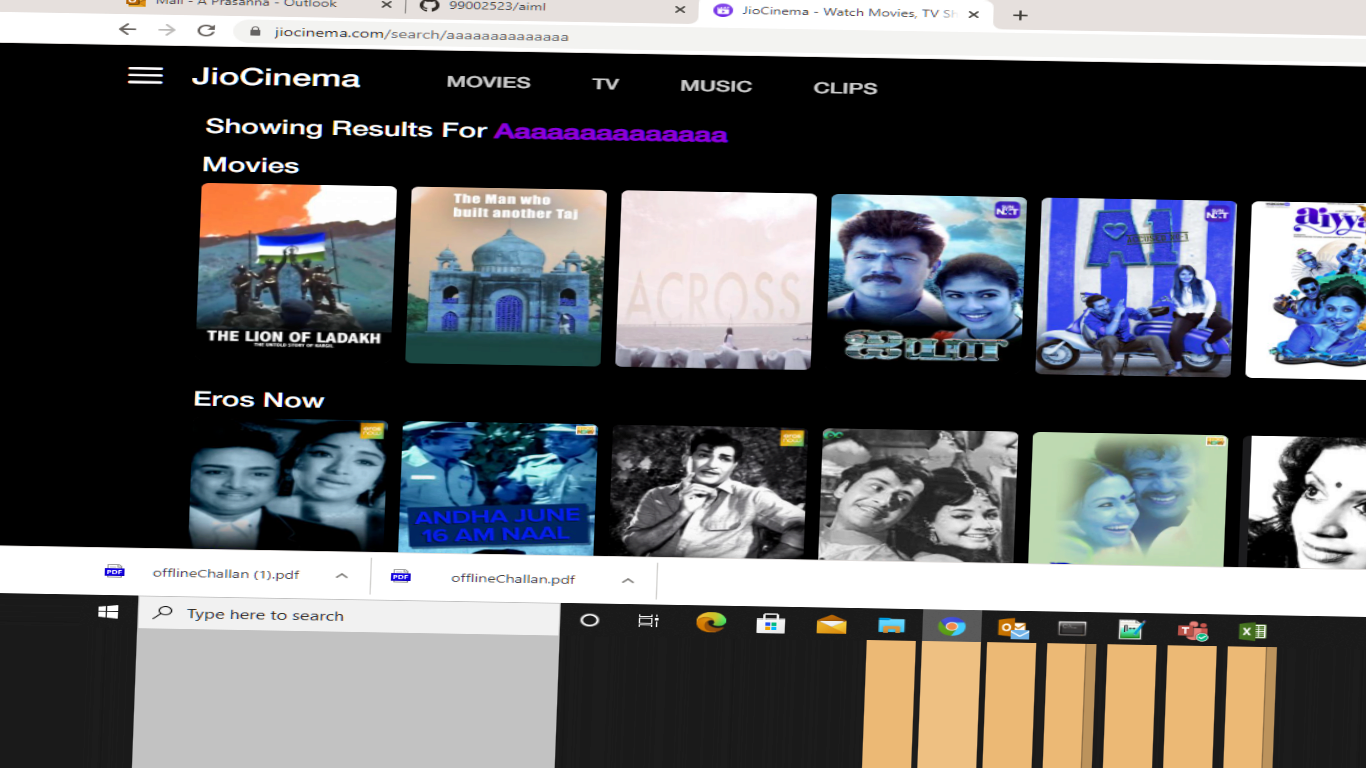noresultsfound: (204, 104, 744, 162)
